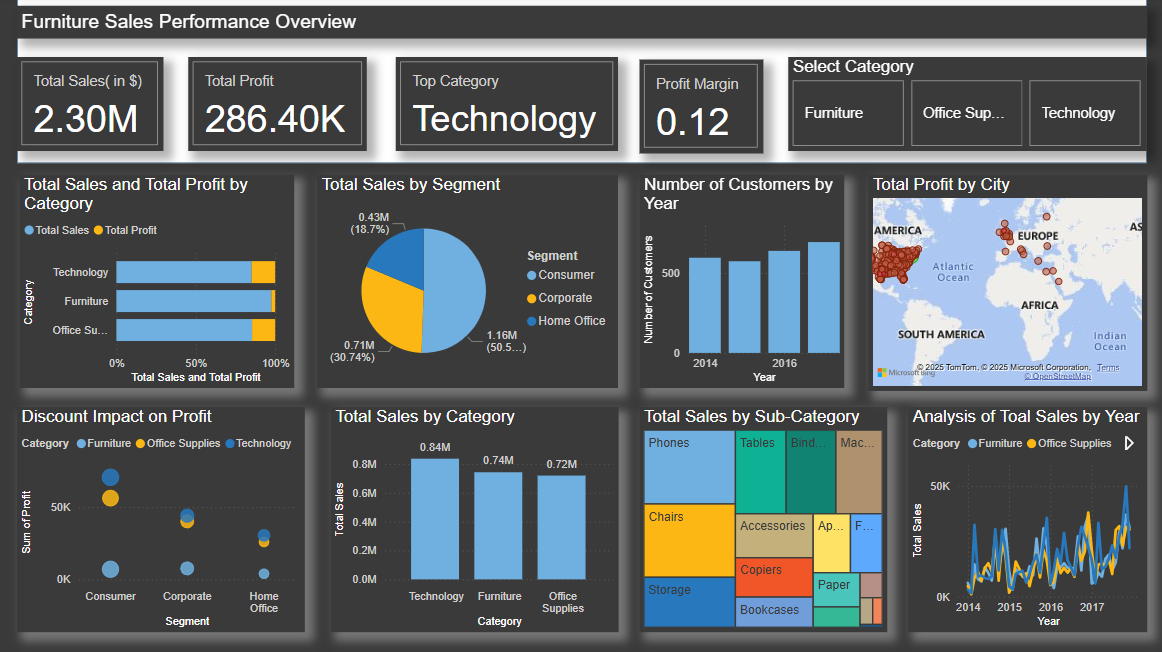

The page's visual inventory and layout, read from the dashboard file:
{"tool":"powerbi","page":{"name":"Page 1","canvas":[1280,720],"ordinal":0},"visuals":[{"type":"lineChart","title":"Analysis of Toal Sales by Year","fields":{"Category":["Orders.Order Date.Variation.Date Hierarchy.Year","Orders.Order Date.Variation.Date Hierarchy.Quarter","Orders.Order Date.Variation.Date Hierarchy.Month","Orders.Order Date.Variation.Date Hierarchy.Day"],"Y":["Orders.Total Sales"],"Series":["Orders.Category"]},"box":[1000.3,450.1,262.1,247],"z":0},{"type":"clusteredColumnChart","fields":{"Category":["Orders.Category"],"Y":["Orders.Total Sales"]},"box":[366.4,450.1,315.6,247],"z":1000},{"type":"treemap","fields":{"Group":["Orders.Sub-Category"],"Values":["Orders.Total Sales"]},"box":[705.3,450.1,271.7,247],"z":2000},{"type":"hundredPercentStackedBarChart","fields":{"Category":["Orders.Category"],"Y":["Orders.Total Sales","Orders.Total Profit"]},"box":[24.7,194.9,301.9,234.6],"z":3000},{"type":"pieChart","fields":{"Category":["Orders.Segment"],"Y":["Orders.Total Sales"]},"box":[351.3,194.9,330.7,234.6],"z":4000},{"type":"scatterChart","title":"Discount Impact on Profit ","fields":{"Y":["Sum(Orders.Profit)"],"X":["Orders.Segment"],"Size":["Orders.Total Sales"],"Series":["Orders.Category"]},"box":[22,450.1,315.6,247],"z":5000},{"type":"shape","box":[22,0,1240.5,182.5],"z":5500},{"type":"map","fields":{"Category":["Orders.City"],"Size":["Orders.Total Profit"]},"box":[956.4,194.9,306,237.4],"z":6000},{"type":"cardVisual","fields":{"Data":["Orders.Total Sales"]},"box":[22,65.9,160.5,102.9],"z":7000},{"type":"cardVisual","fields":{"Data":["Orders.Total Profit"]},"box":[209.9,65.9,196.2,102.9],"z":8000},{"type":"cardVisual","fields":{"Data":["Orders.Profit_Margin"]},"box":[705.3,68.6,135.8,102.9],"z":9000},{"type":"cardVisual","fields":{"Data":["Orders.Top Category"]},"box":[437.7,65.9,244.3,102.9],"z":10000},{"type":"columnChart","fields":{"Category":["Orders.Year"],"Y":["Orders.Number of Customers"]},"box":[705.3,194.9,225,234.6],"z":11000},{"type":"advancedSlicerVisual","fields":{"Values":["Orders.Category"]},"box":[868.6,65.9,393.8,102.9],"z":12000},{"type":"textbox","box":[22,9.6,1240.5,35.7],"z":13000}]}

Visuals, with their boxes in screenshot pixels (x1, y1, x2, y2), scaled from the page's 1280x720 canvas onto the 1162x652 screenshot:
"Analysis of Toal Sales by Year" lineChart: x1=908 y1=408 x2=1146 y2=631
clusteredColumnChart - Orders.Category x Orders.Total Sales: x1=333 y1=408 x2=619 y2=631
treemap - Orders.Sub-Category x Orders.Total Sales: x1=640 y1=408 x2=887 y2=631
hundredPercentStackedBarChart - Orders.Category x Orders.Total Sales: x1=22 y1=176 x2=296 y2=389
pieChart - Orders.Segment x Orders.Total Sales: x1=319 y1=176 x2=619 y2=389
"Discount Impact on Profit " scatterChart: x1=20 y1=408 x2=306 y2=631
shape: x1=20 y1=0 x2=1146 y2=165
map - Orders.City x Orders.Total Profit: x1=868 y1=176 x2=1146 y2=391
cardVisual - Orders.Total Sales: x1=20 y1=60 x2=166 y2=153
cardVisual - Orders.Total Profit: x1=191 y1=60 x2=369 y2=153
cardVisual - Orders.Profit_Margin: x1=640 y1=62 x2=764 y2=155
cardVisual - Orders.Top Category: x1=397 y1=60 x2=619 y2=153
columnChart - Orders.Year x Orders.Number of Customers: x1=640 y1=176 x2=845 y2=389
advancedSlicerVisual - Orders.Category: x1=789 y1=60 x2=1146 y2=153
textbox: x1=20 y1=9 x2=1146 y2=41
